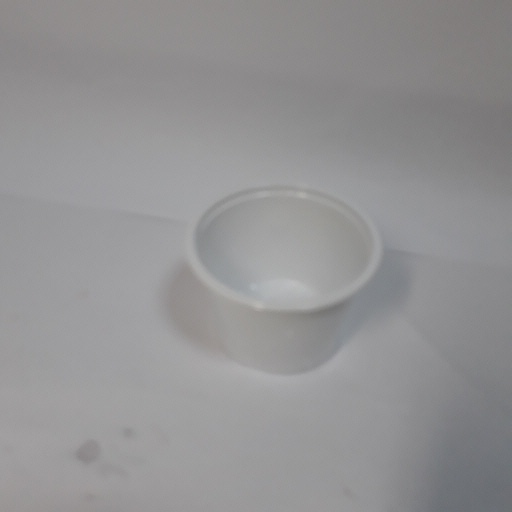Plastic_5: (183, 184, 383, 377)
